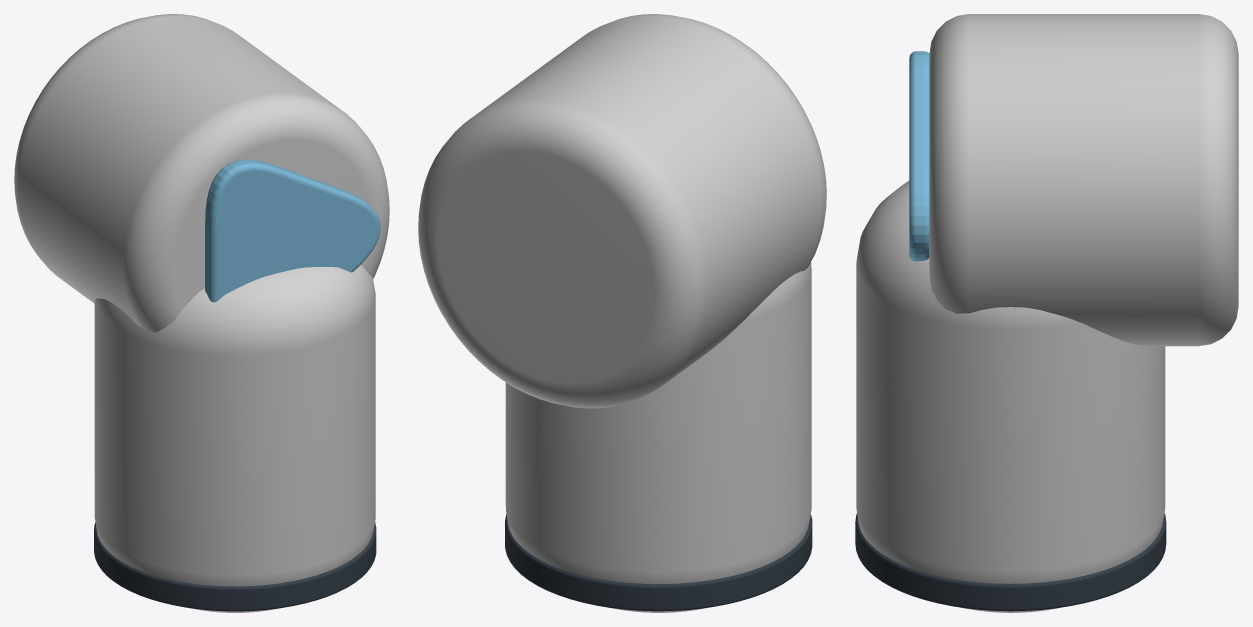
File: wrist_1_link.obj
3 renders of one model, left to right at view 1: azimuth 30°, elevation 25°; view 2: azimuth 150°, elevation 25°; view 3: azimuth 270°, elevation 25°, orthographic. The views are drawn at different scales.
Visible parts, largest first — view 1: wrist_bridge, wrist_axis, wrist_cap, wrist_output_seal; view 2: wrist_axis, wrist_bridge, wrist_output_seal; view 3: wrist_axis, wrist_bridge, wrist_output_seal, wrist_cap.
Part boxes in pixels (x1,y1,x2,y2): wrist_bridge: (94, 265, 375, 612); wrist_axis: (14, 14, 389, 332); wrist_cap: (205, 159, 380, 302); wrist_output_seal: (94, 522, 376, 611); wrist_axis: (418, 14, 826, 408); wrist_bridge: (505, 262, 811, 612); wrist_output_seal: (505, 514, 812, 611); wrist_axis: (929, 14, 1238, 346); wrist_bridge: (856, 181, 1165, 612); wrist_output_seal: (855, 513, 1166, 611); wrist_cap: (909, 51, 929, 261).
Size of the model in its own units: 0.1 by 0.1801 by 0.1153.
